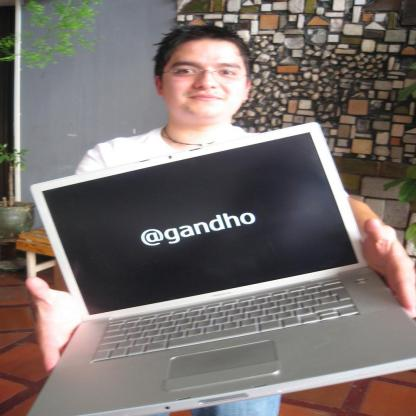board: (29, 123, 415, 416)
